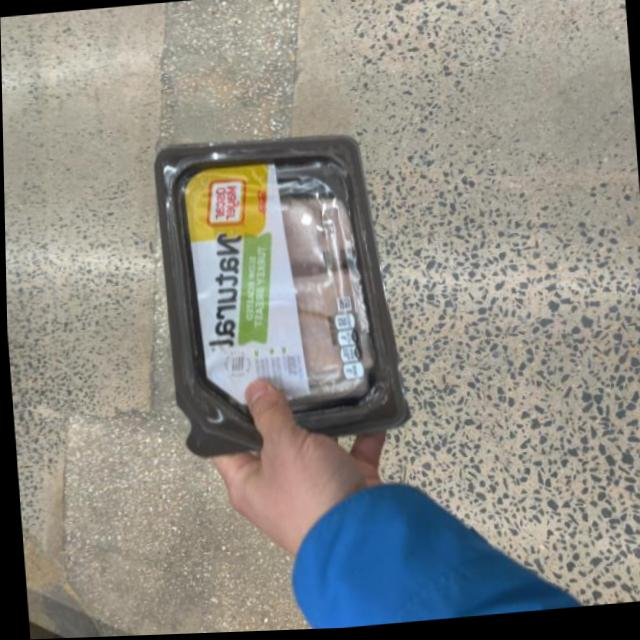Meat: (156, 132, 408, 467)
